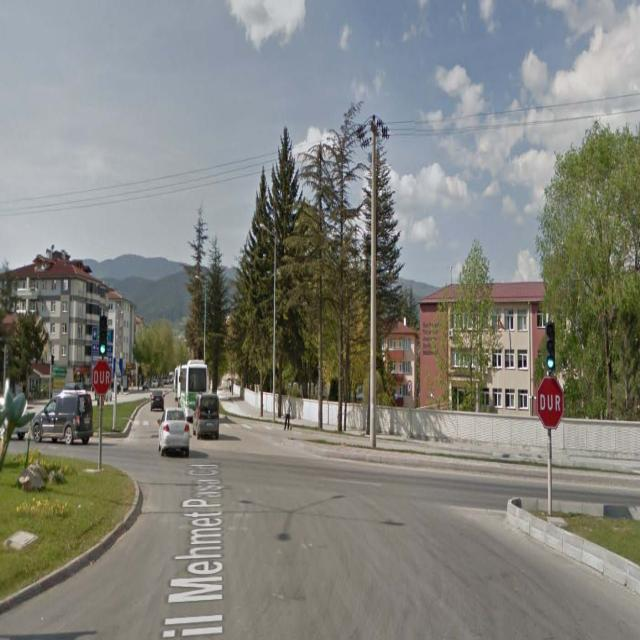dur: (538, 378, 564, 429), (92, 362, 110, 394)
yesil: (546, 320, 555, 370), (100, 313, 108, 358)
